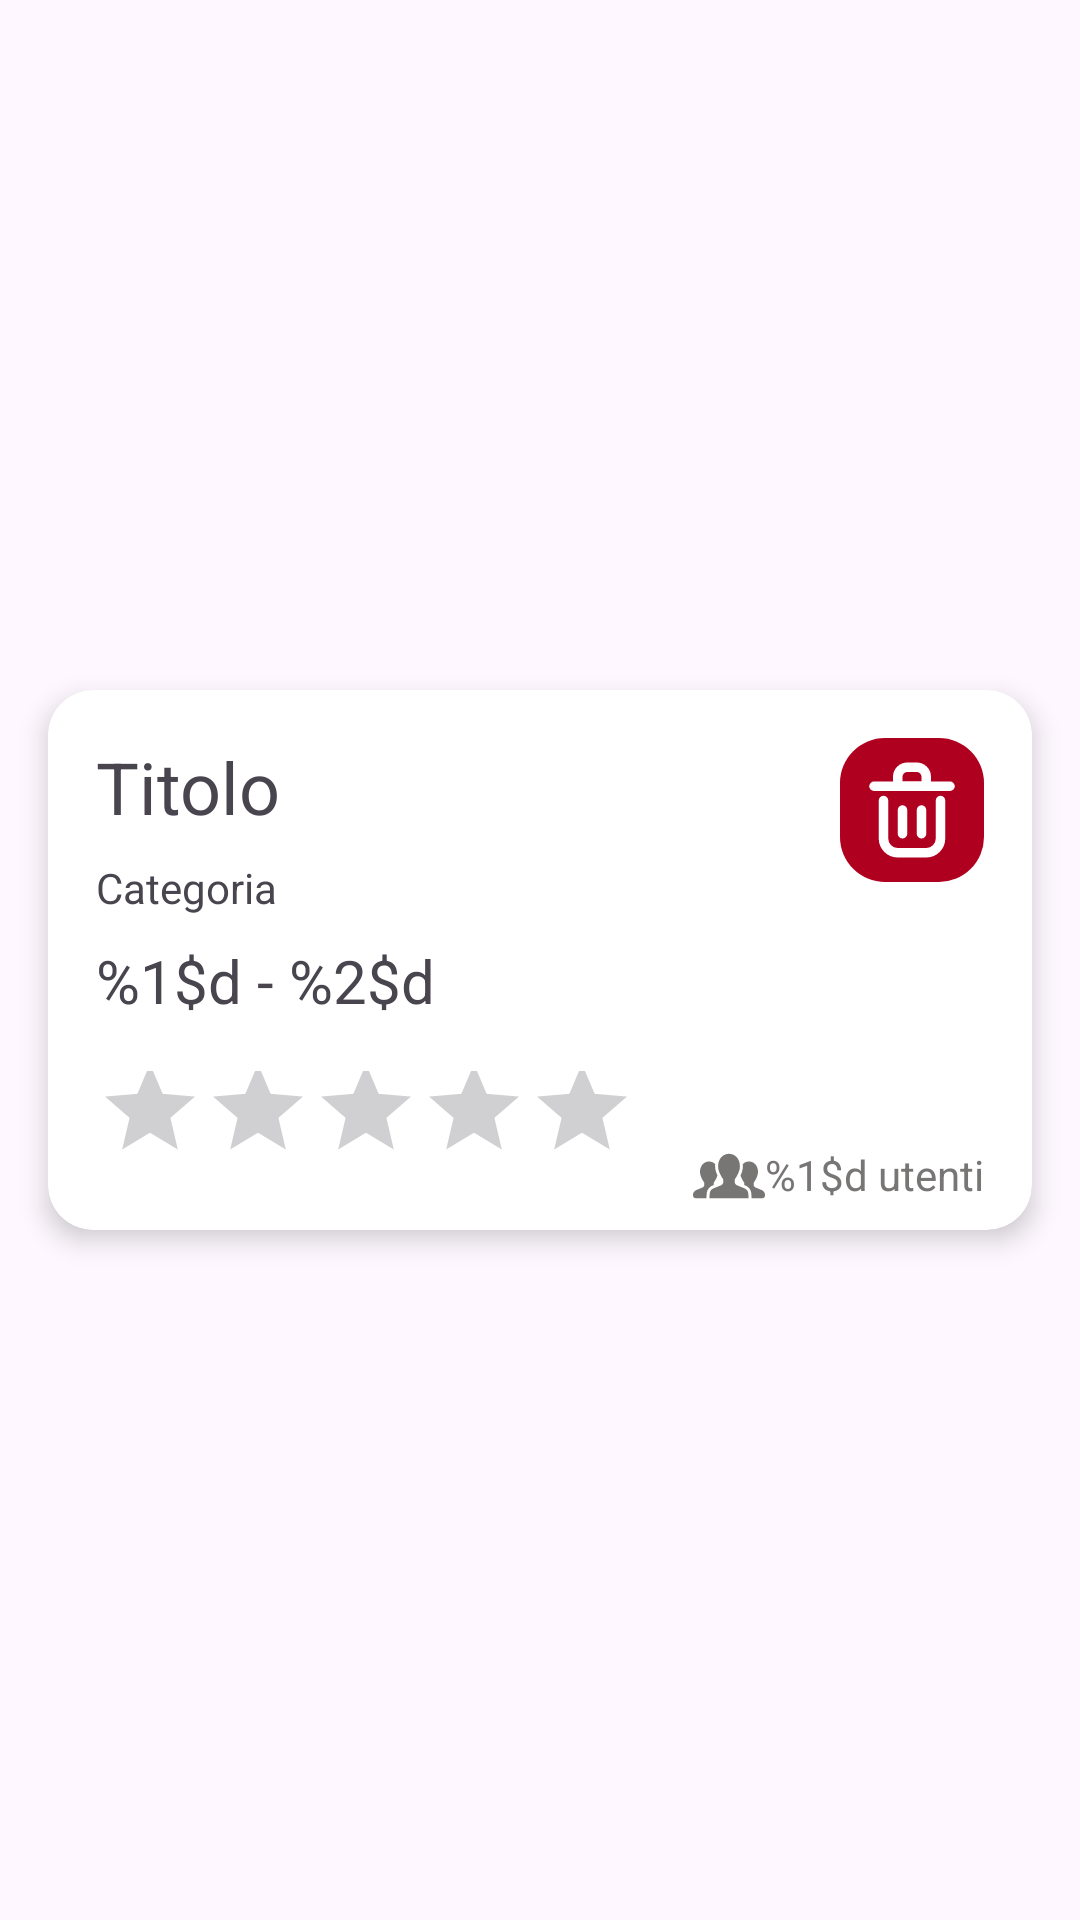

Where icons sit on this 1080×1920 app screen, as (left=x1, top=y1, right=x2, bottom=y2):
delete: (left=840, top=738, right=984, bottom=882)
person team: (left=693, top=1153, right=765, bottom=1199)
